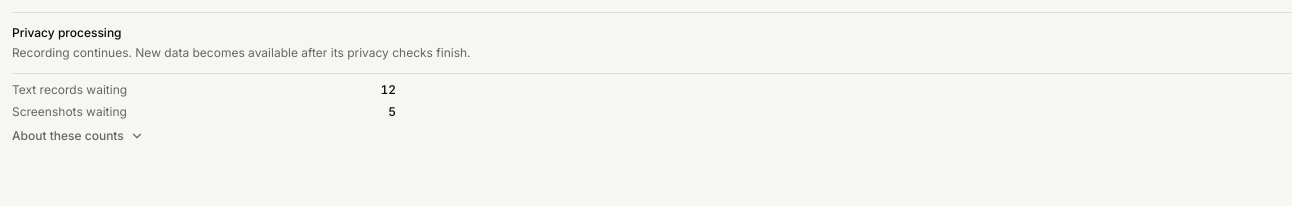
Scenario: privacy processing status › keeps queue counts visible while explanatory details are collapsed
Expected: the text "12" is shown, [380, 82, 396, 98]
Expected: the text "5" is shown, [388, 104, 396, 119]
Step 1. Click the button "About these counts" → (78, 136), box [12, 128, 144, 144]
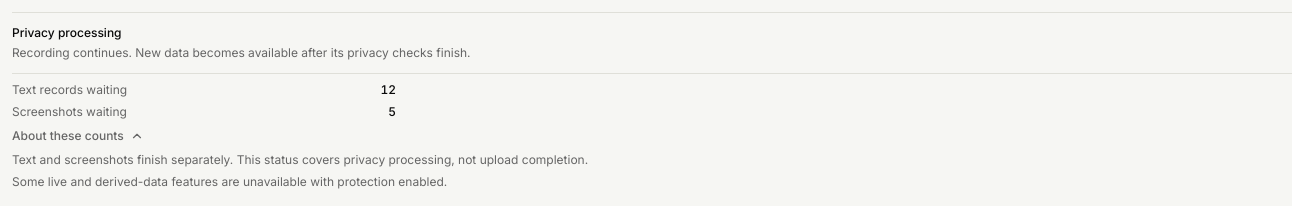
Expected: the button "About these counts" is expanded
Expected: the text "This status covers privacy processing" is shown, [12, 152, 588, 167]
Step 2. Click the button "About these counts" → (78, 136), box [12, 128, 144, 144]
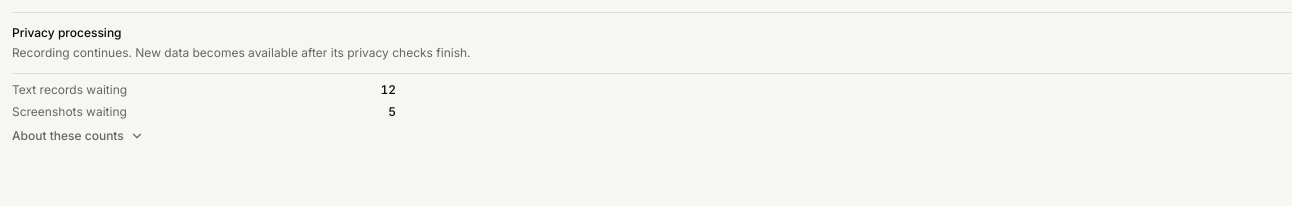
Expected: the text "12" is shown, [380, 82, 396, 98]
Expected: the button "About these counts" is collapsed, [12, 128, 144, 144]
